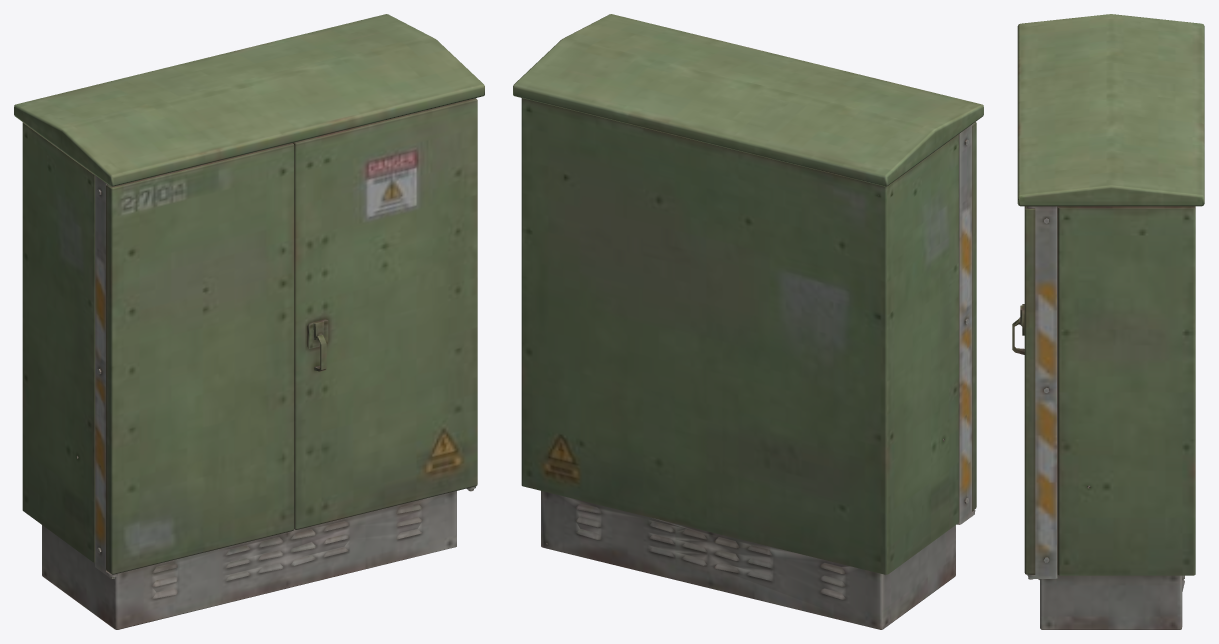
The model's file is utility_box_02.gltf.
3 renders of one model, left to right at view 1: azimuth 30°, elevation 25°; view 2: azimuth 150°, elevation 25°; view 3: azimuth 270°, elevation 25°, orthographic. The views are drawn at different scales.
Parts seen in each view (by area): view 1: utility_box_02; view 2: utility_box_02; view 3: utility_box_02.
Boxes of the visible parts, <box> form: utility_box_02: <box>14,14,484,629</box>; utility_box_02: <box>513,14,983,629</box>; utility_box_02: <box>1012,14,1204,629</box>.
Bounding box in the file's own units: 0.92 × 1.12 × 0.432.
Materials: 1 (1 with a texture image).
